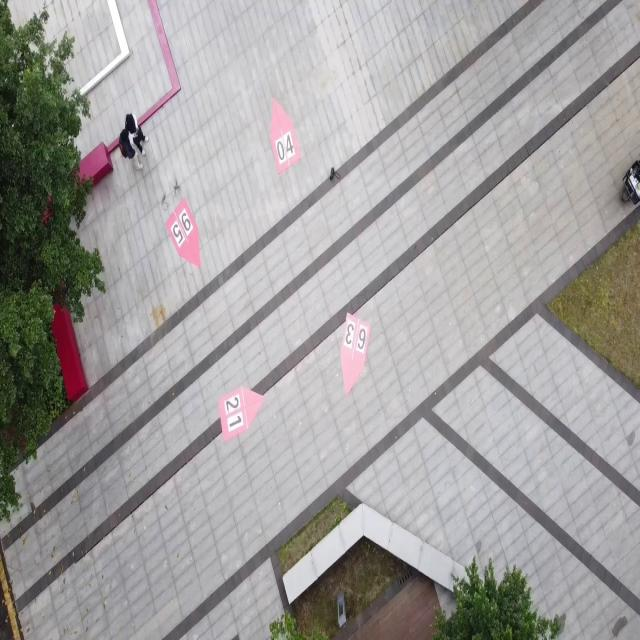-sign-: (340, 311, 371, 398), (218, 385, 264, 443), (165, 198, 201, 270), (270, 97, 301, 174)
